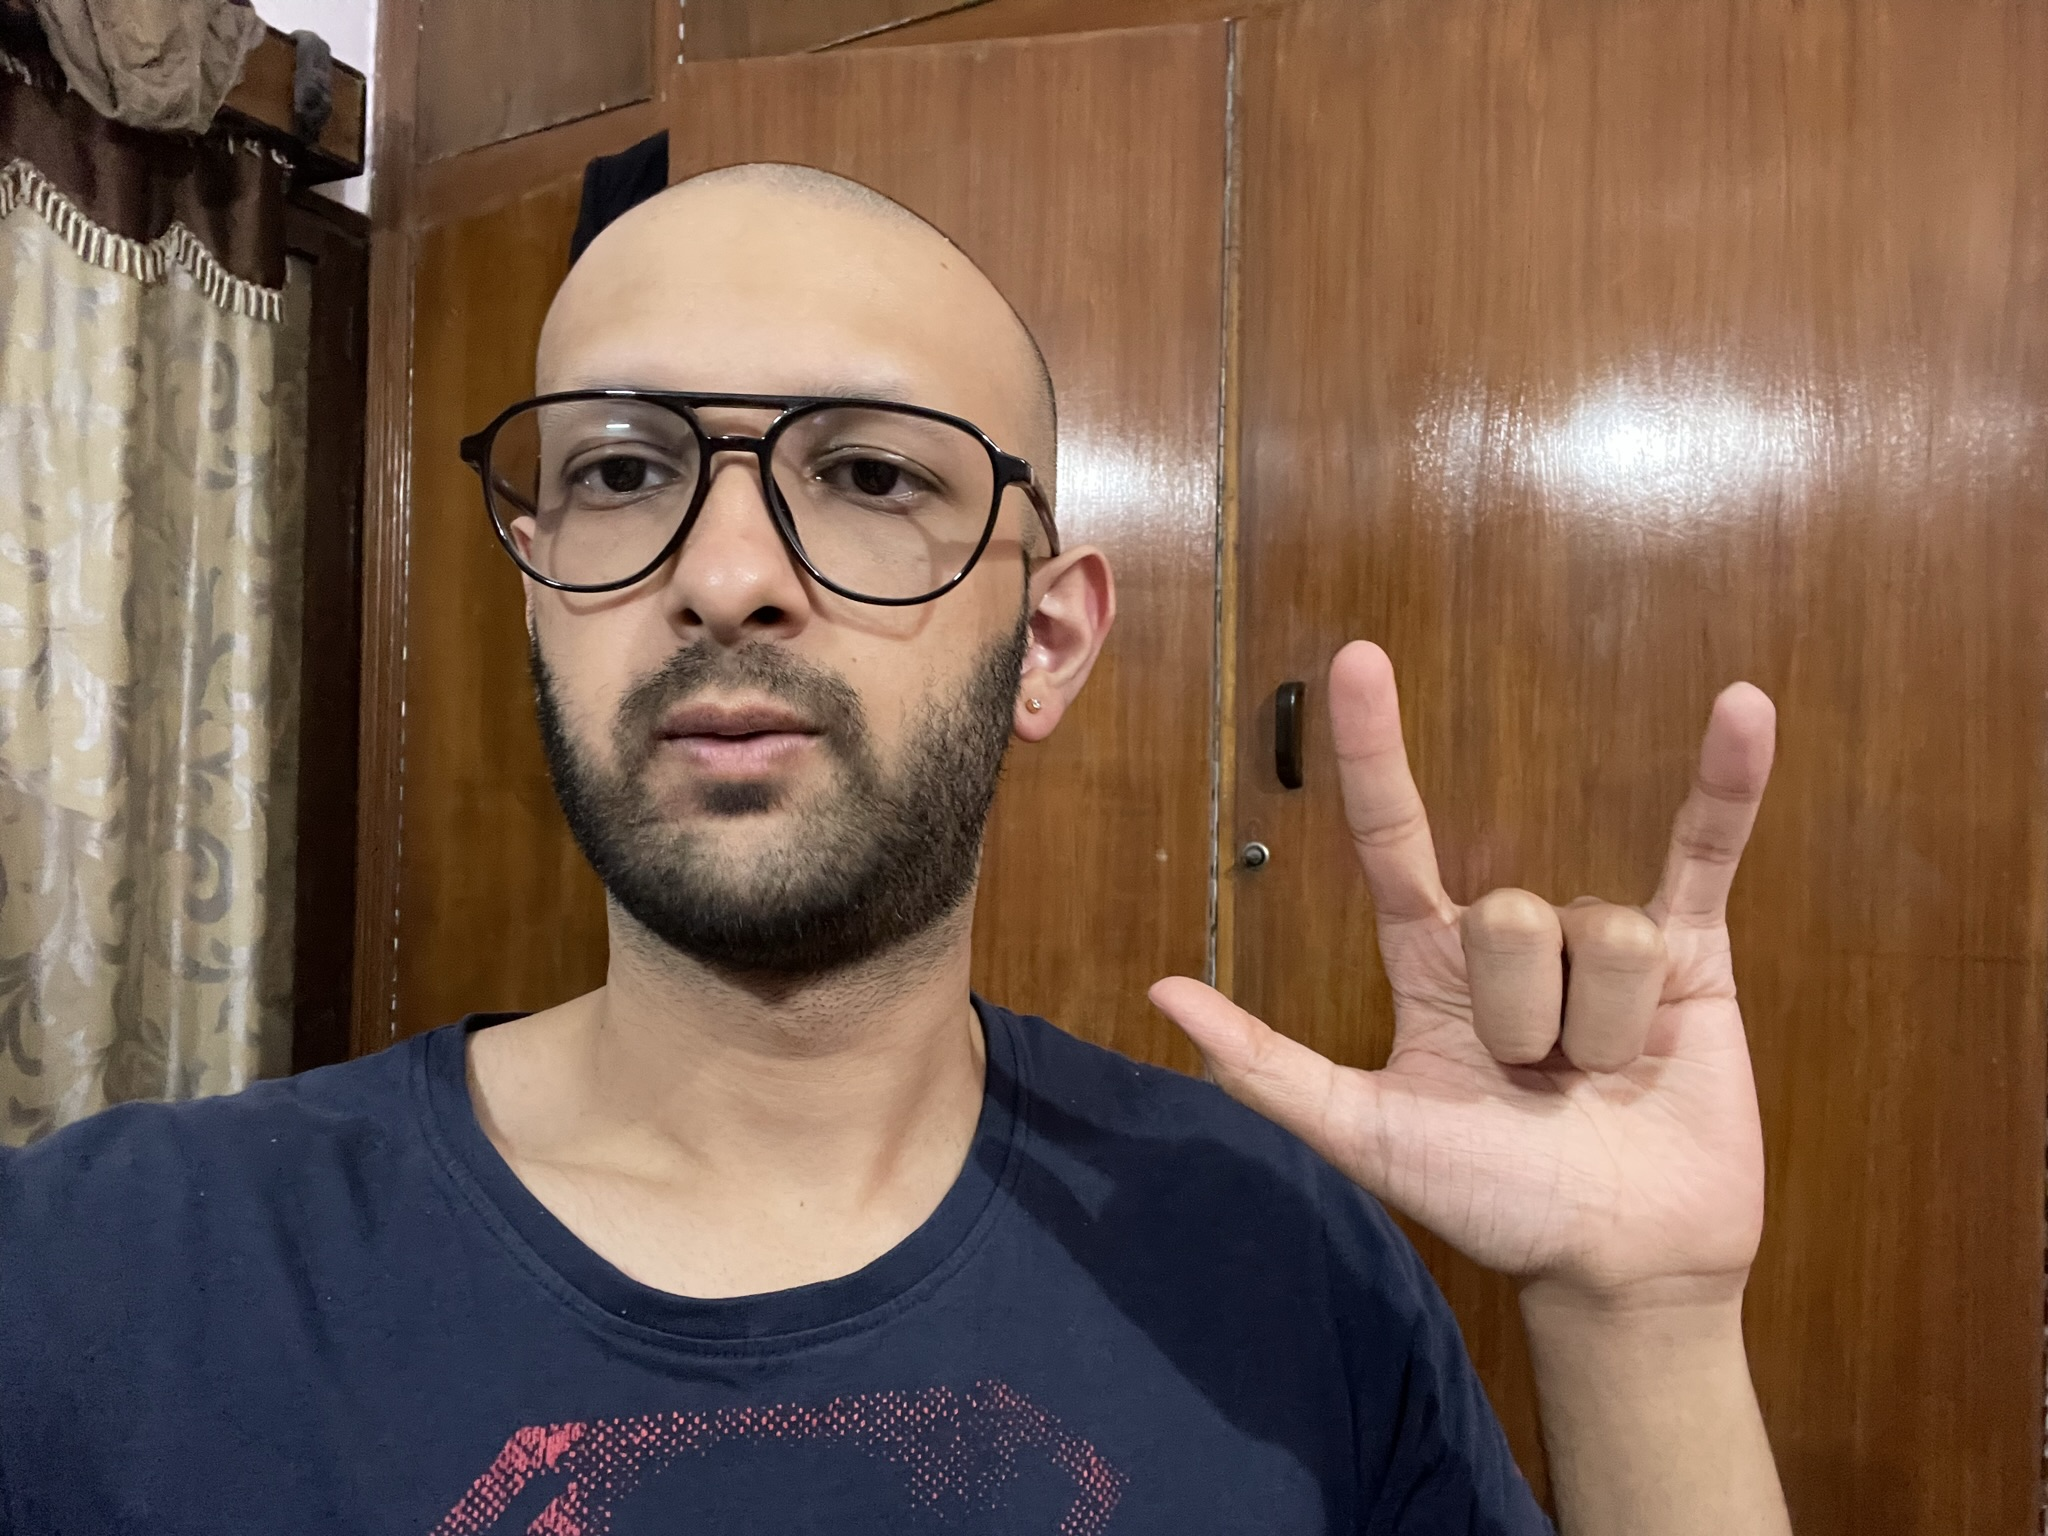I Love You: (1135, 629, 1785, 1291)
